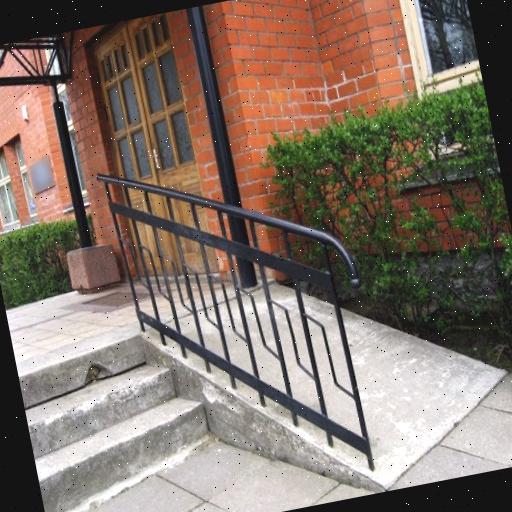ramp: (136, 245, 512, 512)
stairs: (18, 331, 221, 512)
